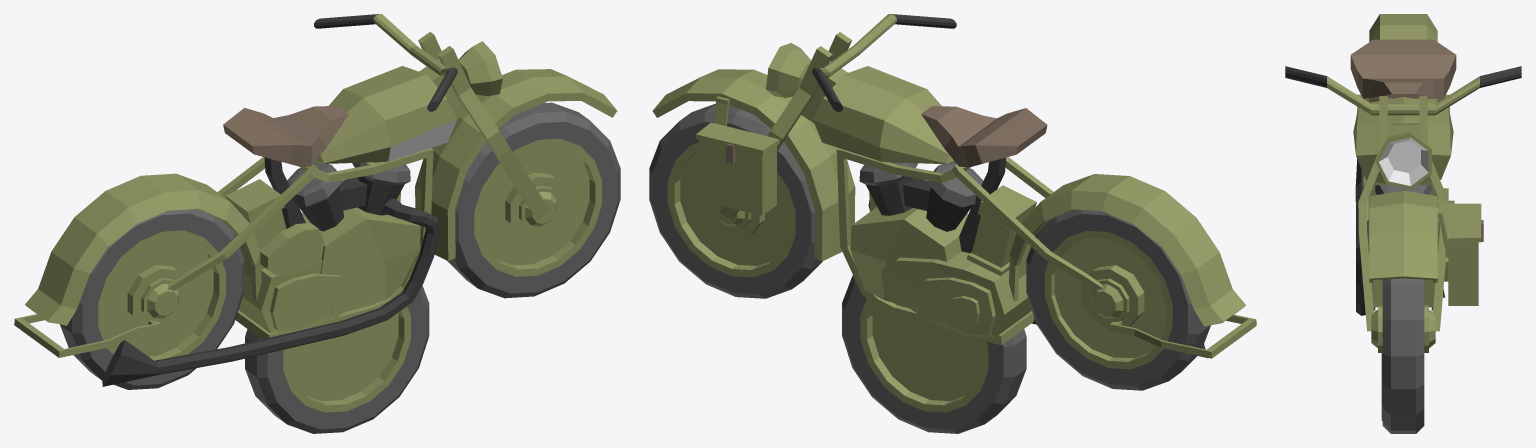
3 renders of one model, left to right at view 1: azimuth 30°, elevation 25°; view 2: azimuth 150°, elevation 25°; view 3: azimuth 270°, elevation 25°, orthographic. The views are drawn at different scales.
Parts seen in each view (by area): view 1: Main, FrontWheel, Front, RearWheel, SeparateWheel; view 2: Main, Front, RearWheel, FrontWheel, SeparateWheel; view 3: Front, Main, FrontWheel.
Boxes of the visible parts, x1,y1,x2,y2 form: Main: (14, 66, 457, 386); FrontWheel: (447, 102, 620, 298); Front: (314, 14, 617, 260); RearWheel: (60, 209, 244, 389); SeparateWheel: (245, 285, 429, 433); Main: (812, 66, 1256, 358); Front: (652, 14, 956, 261); RearWheel: (1026, 209, 1210, 390); FrontWheel: (649, 103, 822, 298); SeparateWheel: (842, 275, 1026, 433); Front: (1285, 66, 1521, 352); Main: (1350, 14, 1456, 315); FrontWheel: (1382, 278, 1424, 433).
Bounding box in the file's own units: 2.84 × 1.72 × 0.9653.
